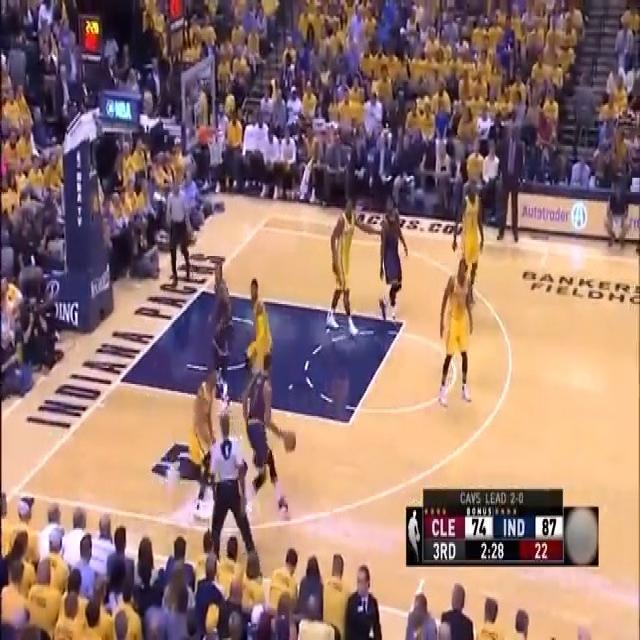basketball: (284, 428, 297, 453)
hoop: (199, 114, 228, 174)
